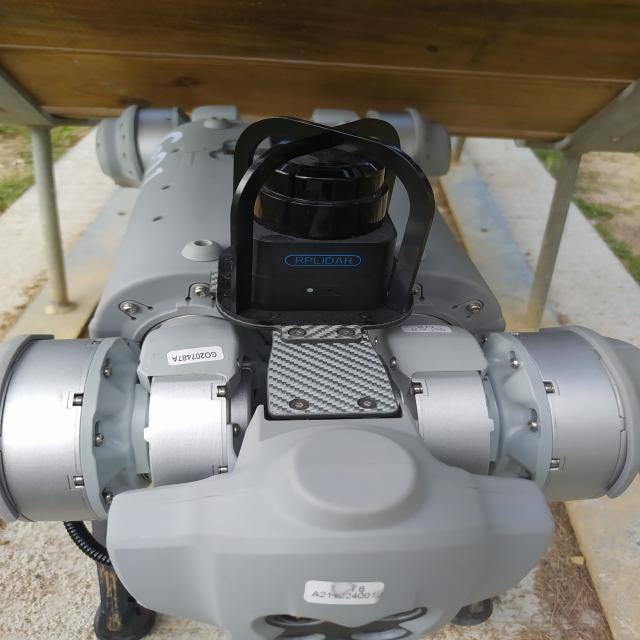unitree-go1-robot: (1, 92, 640, 640)
